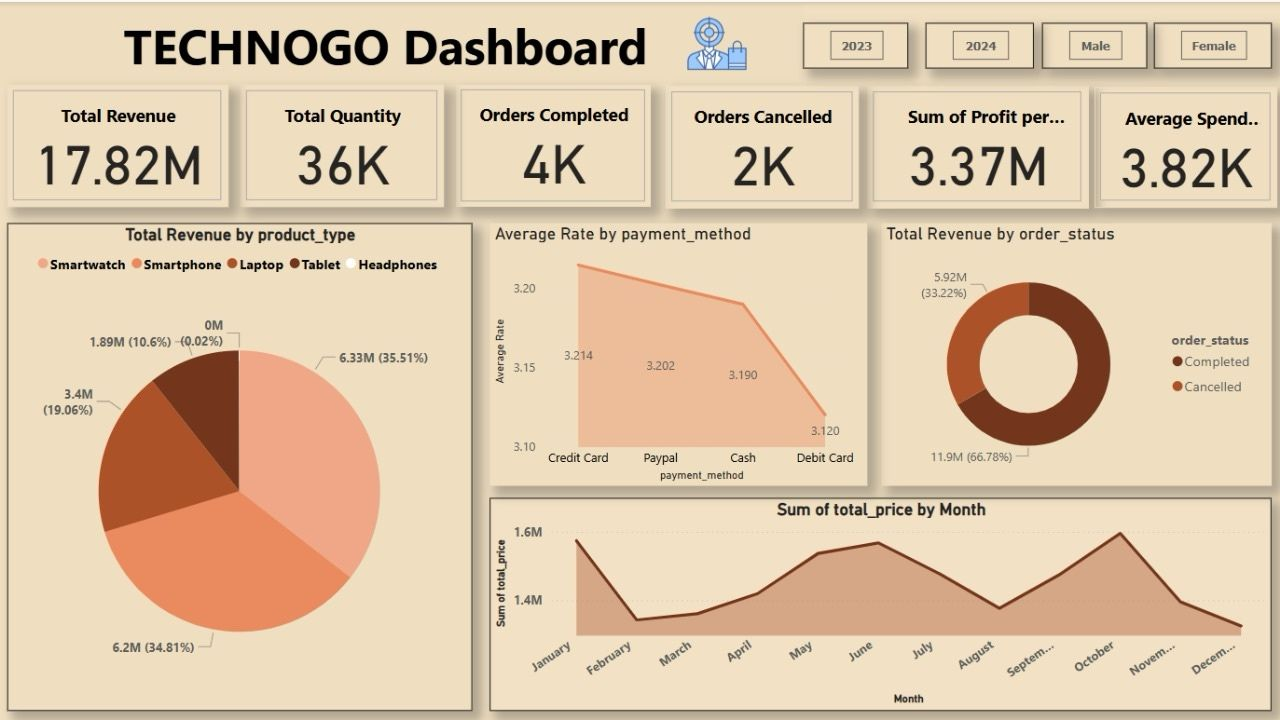

What the dashboard file says about the page in this screenshot:
{"tool":"powerbi","page":{"name":"Page 1","canvas":[1280,720],"ordinal":0},"visuals":[{"type":"textbox","box":[0,0,802.3,82.6],"z":0},{"type":"cardVisual","fields":{"Data":["Sum(df_new_cb.Profit per Order)"]},"box":[866.3,83.7,220.9,122.1],"z":1000},{"type":"cardVisual","fields":{"Data":["df_new_cb.Count of order_status for Completed"]},"box":[455.8,82.6,194.2,122.1],"z":2000},{"type":"lineChart","fields":{"Category":["df_new_cb.purchase_date.Variation.Date Hierarchy.Month"],"Y":["Sum(df_new_cb.total_price)"]},"box":[489.5,495.4,780.2,212.8],"z":3000},{"type":"slicer","fields":{"Values":["df_new_cb.gender"]},"box":[1152.3,20.9,117.4,45.3],"z":4000},{"type":"slicer","fields":{"Values":["df_new_cb.gender"]},"box":[1040.7,20.9,104.7,45.3],"z":5000},{"type":"cardVisual","fields":{"Data":["df_new_cb.Total Quantity"]},"box":[240.7,82.6,203.5,122.1],"z":6000},{"type":"cardVisual","fields":{"Data":["df_new_cb.Total Revenue"]},"box":[8.1,82.6,220.9,122.1],"z":7000},{"type":"pieChart","fields":{"Category":["df_new_cb.product_type"],"Y":["df_new_cb.Total Revenue"]},"box":[8.1,220.9,464,487.2],"z":8000},{"type":"cardVisual","fields":{"Data":["df_new_cb.Cancellation Rate"]},"box":[665.1,83.7,193,122.1],"z":9000},{"type":"cardVisual","fields":{"Data":["df_new_cb.Average Spend per Customer"]},"box":[1093,84.9,182.6,120.9],"z":10000},{"type":"donutChart","fields":{"Category":["df_new_cb.order_status"],"Y":["df_new_cb.Total Revenue"]},"box":[880.2,220.9,389.5,262.8],"z":11000},{"type":"slicer","fields":{"Values":["df_new_cb.purchase_date.Variation.Date Hierarchy.Year"]},"box":[924.4,20.9,108.1,45.3],"z":12000},{"type":"slicer","fields":{"Values":["df_new_cb.purchase_date.Variation.Date Hierarchy.Year"]},"box":[802.3,20.9,104.7,45.3],"z":13000},{"type":"stackedAreaChart","fields":{"Category":["df_new_cb.payment_method"],"Y":["df_new_cb.Average Rate"]},"box":[489.5,220.9,376.7,262.8],"z":14000},{"type":"image","box":[665.1,7,102.3,68.6],"z":15000}]}

Visuals, with their boxes in screenshot pixels (x1, y1, x2, y2), scaled from the page's 1280x720 canvas onto the 1280x720 screenshot:
textbox: bbox=[0, 0, 802, 83]
cardVisual - Sum(df_new_cb.Profit per Order): bbox=[866, 84, 1087, 206]
cardVisual - df_new_cb.Count of order_status for Completed: bbox=[456, 83, 650, 205]
lineChart - df_new_cb.purchase_date.Variation.Date Hierarchy.Month x Sum(df_new_cb.total_price): bbox=[490, 495, 1270, 708]
slicer - df_new_cb.gender: bbox=[1152, 21, 1270, 66]
slicer - df_new_cb.gender: bbox=[1041, 21, 1145, 66]
cardVisual - df_new_cb.Total Quantity: bbox=[241, 83, 444, 205]
cardVisual - df_new_cb.Total Revenue: bbox=[8, 83, 229, 205]
pieChart - df_new_cb.product_type x df_new_cb.Total Revenue: bbox=[8, 221, 472, 708]
cardVisual - df_new_cb.Cancellation Rate: bbox=[665, 84, 858, 206]
cardVisual - df_new_cb.Average Spend per Customer: bbox=[1093, 85, 1276, 206]
donutChart - df_new_cb.order_status x df_new_cb.Total Revenue: bbox=[880, 221, 1270, 484]
slicer - df_new_cb.purchase_date.Variation.Date Hierarchy.Year: bbox=[924, 21, 1032, 66]
slicer - df_new_cb.purchase_date.Variation.Date Hierarchy.Year: bbox=[802, 21, 907, 66]
stackedAreaChart - df_new_cb.payment_method x df_new_cb.Average Rate: bbox=[490, 221, 866, 484]
image: bbox=[665, 7, 767, 76]
